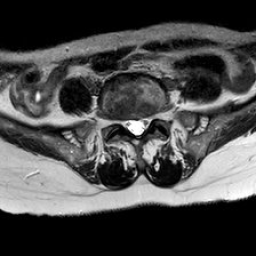CCS_stenosis: (133, 108, 141, 145)
LFS_stenosis: (148, 102, 157, 129)
LLS_normal: (141, 107, 149, 137)
RFS_stenosis: (115, 108, 124, 132)
RLS_normal: (124, 109, 133, 138)
